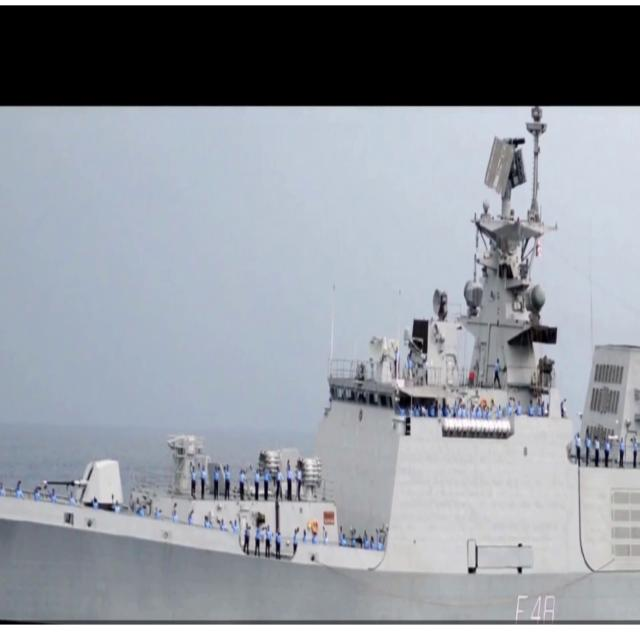OCR: (506, 588, 558, 625)
